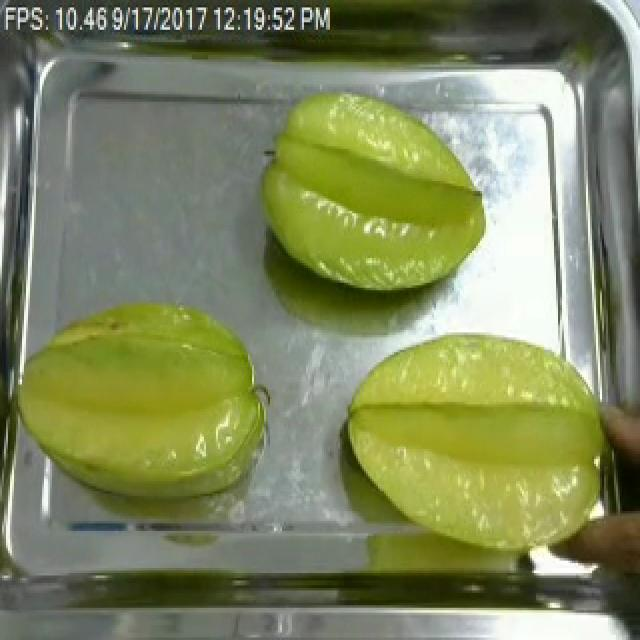fruit: (332, 320, 622, 566), (2, 290, 272, 514), (248, 81, 494, 302)
